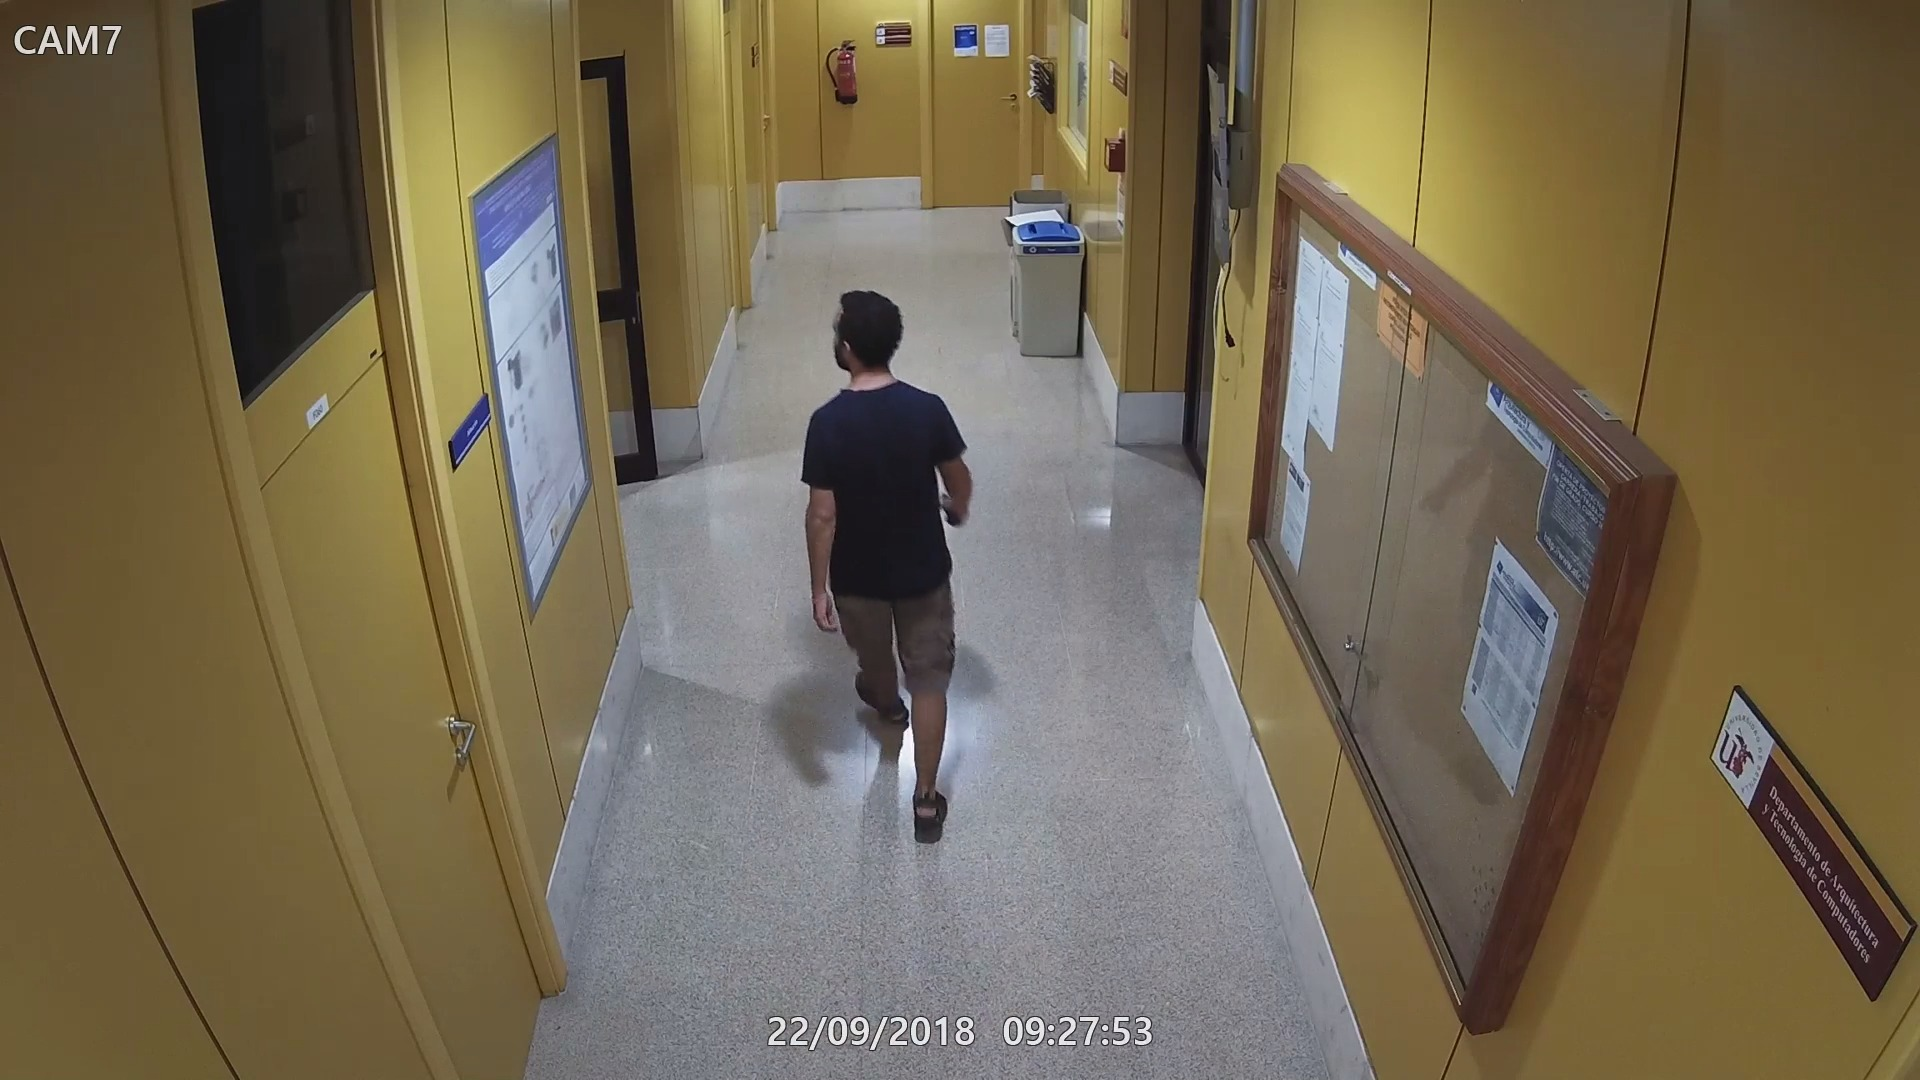Handgun: (942, 487, 975, 527)
